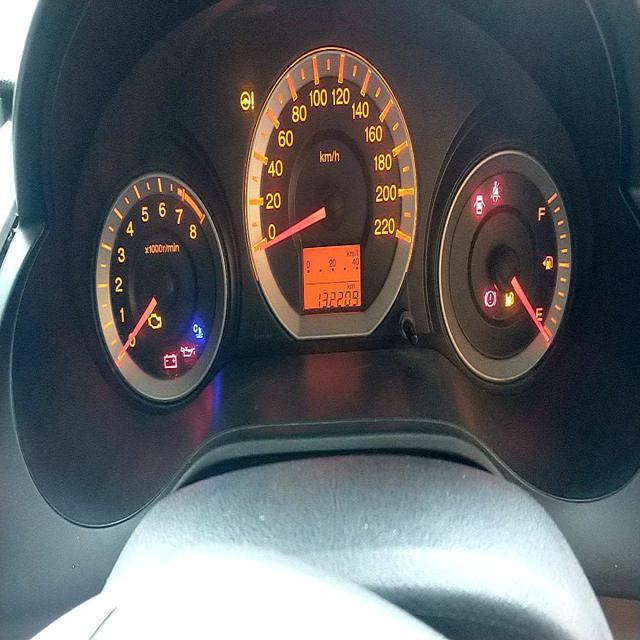odometer: (317, 284, 361, 309)
